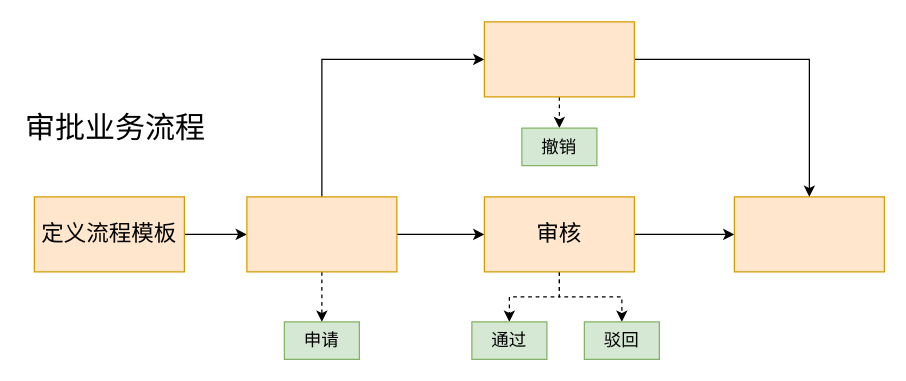
The diagram is 906 pixels wide and 381 high, and some of its shapes have lost their labels. Here are the shapes that lost their labels. From the top down, the centre of each, then its label:
At (x=558, y=59): "取消流程".
At (x=321, y=234): "发起流程".
At (x=808, y=234): "结束".
